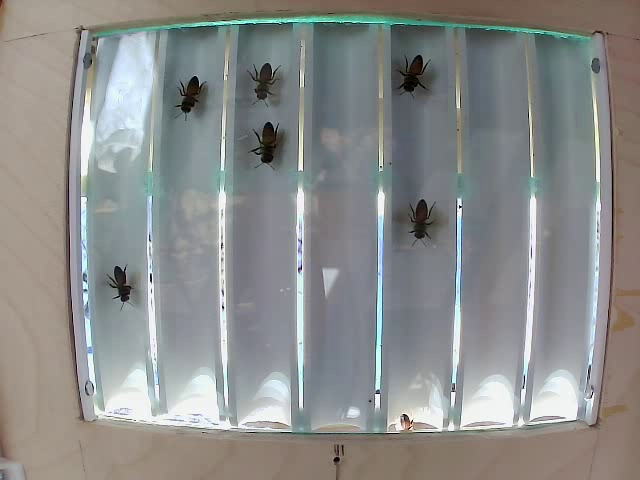bee: (391, 194, 451, 263), (382, 46, 441, 104), (243, 126, 299, 182), (109, 265, 161, 320), (246, 59, 295, 114), (159, 75, 214, 121)
